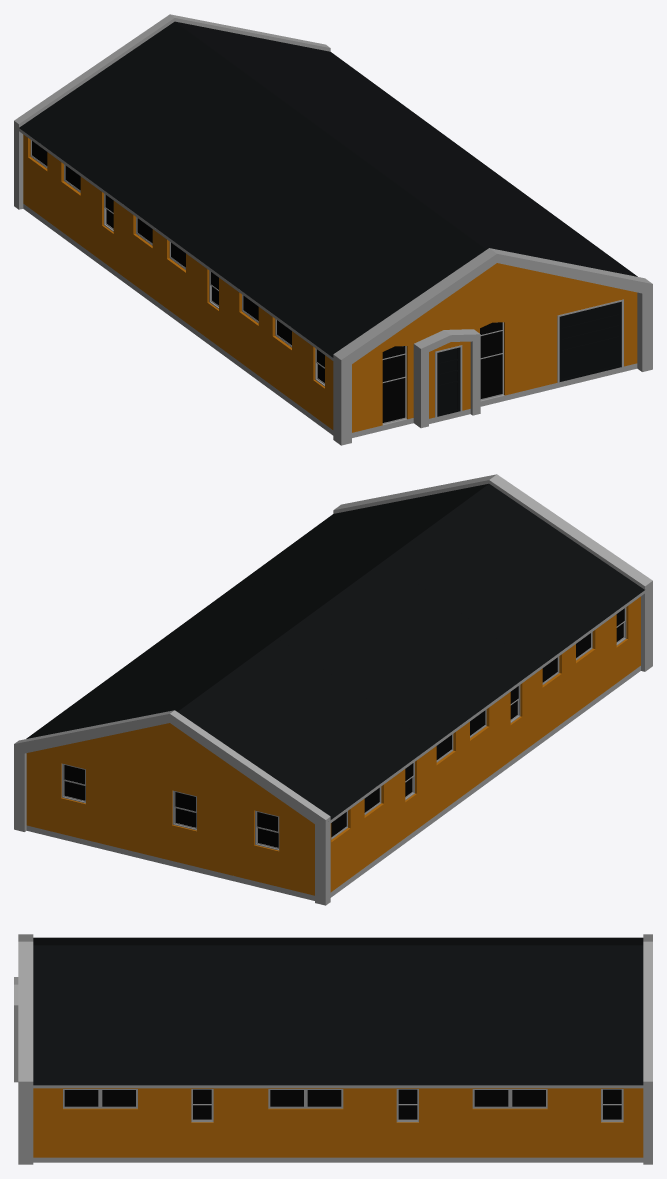
File: house_b.FBX
3 views of the same model, one above another, from view 1: azimuth 30°, elevation 25°; view 2: azimuth 150°, elevation 25°; view 3: azimuth 270°, elevation 25° (orthographic). The views are drawn at different scales.
Parts seen in each view (by area): view 1: HOUSEB; view 2: HOUSEB; view 3: HOUSEB.
Boxes of the visible parts, <box> form: HOUSEB: <box>14,14,652,445</box>; HOUSEB: <box>14,474,652,905</box>; HOUSEB: <box>14,934,652,1164</box>.
Bounding box in the file's own units: 146712 × 69168 × 268377.
